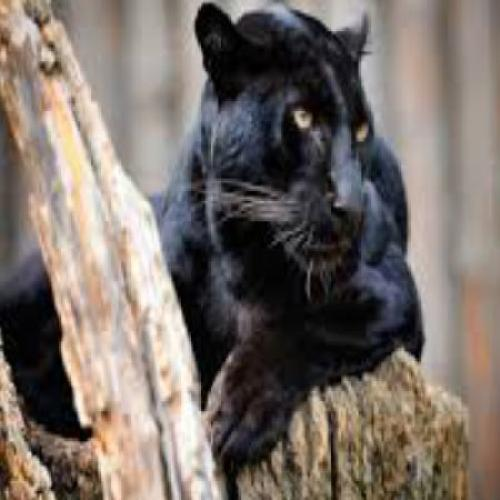panther-endangered: (13, 8, 423, 461)
